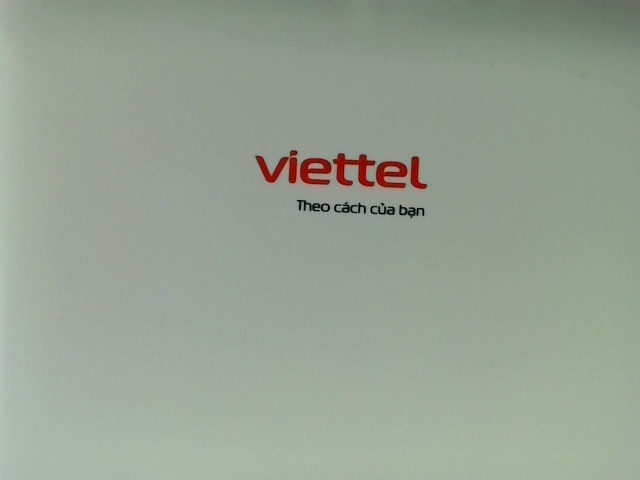AY_Viettel: (253, 148, 435, 225)
